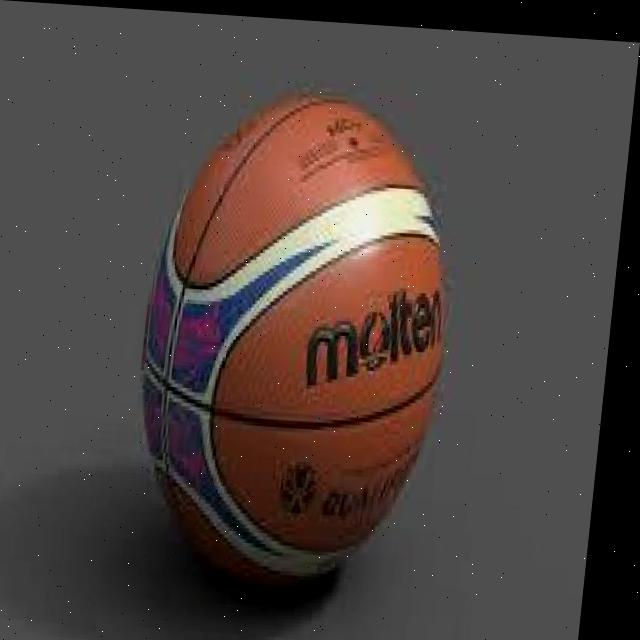Basketball: (120, 92, 469, 595)
